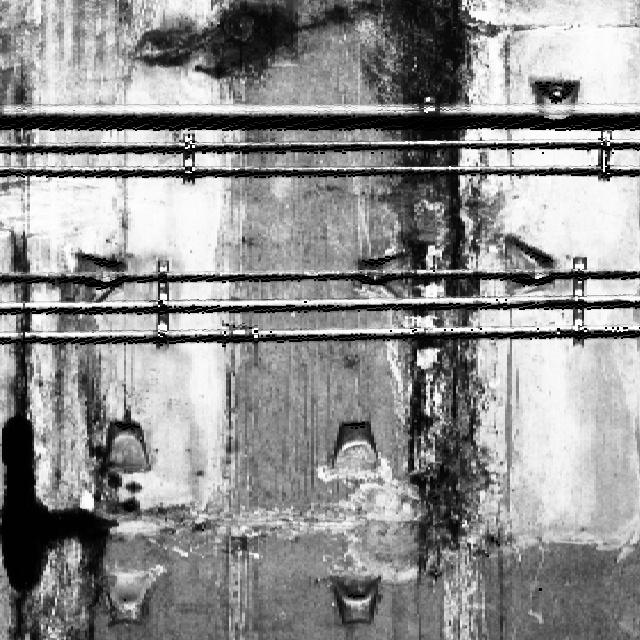leakage: (361, 0, 516, 636), (2, 382, 112, 639), (128, 0, 339, 84)
